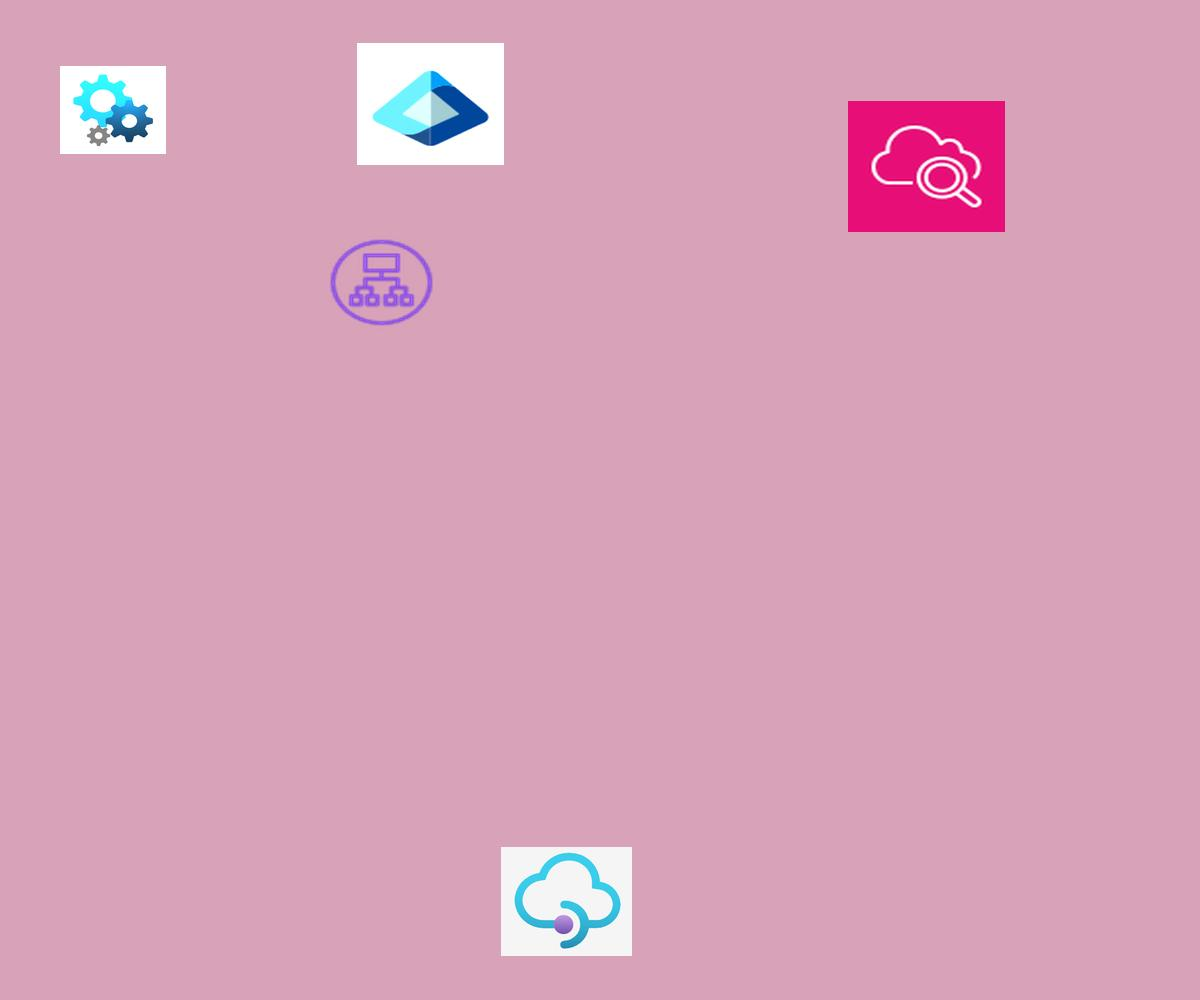AWS-CloudWatch: (848, 101, 1005, 232)
AWS-Res_Elastic-Load-Balancing_Application-Load-Balancer: (326, 236, 437, 329)
Azure_api: (60, 66, 166, 154)
Azure_api_gateway: (501, 847, 632, 956)
Azure_microsoft_entra: (357, 43, 504, 165)
